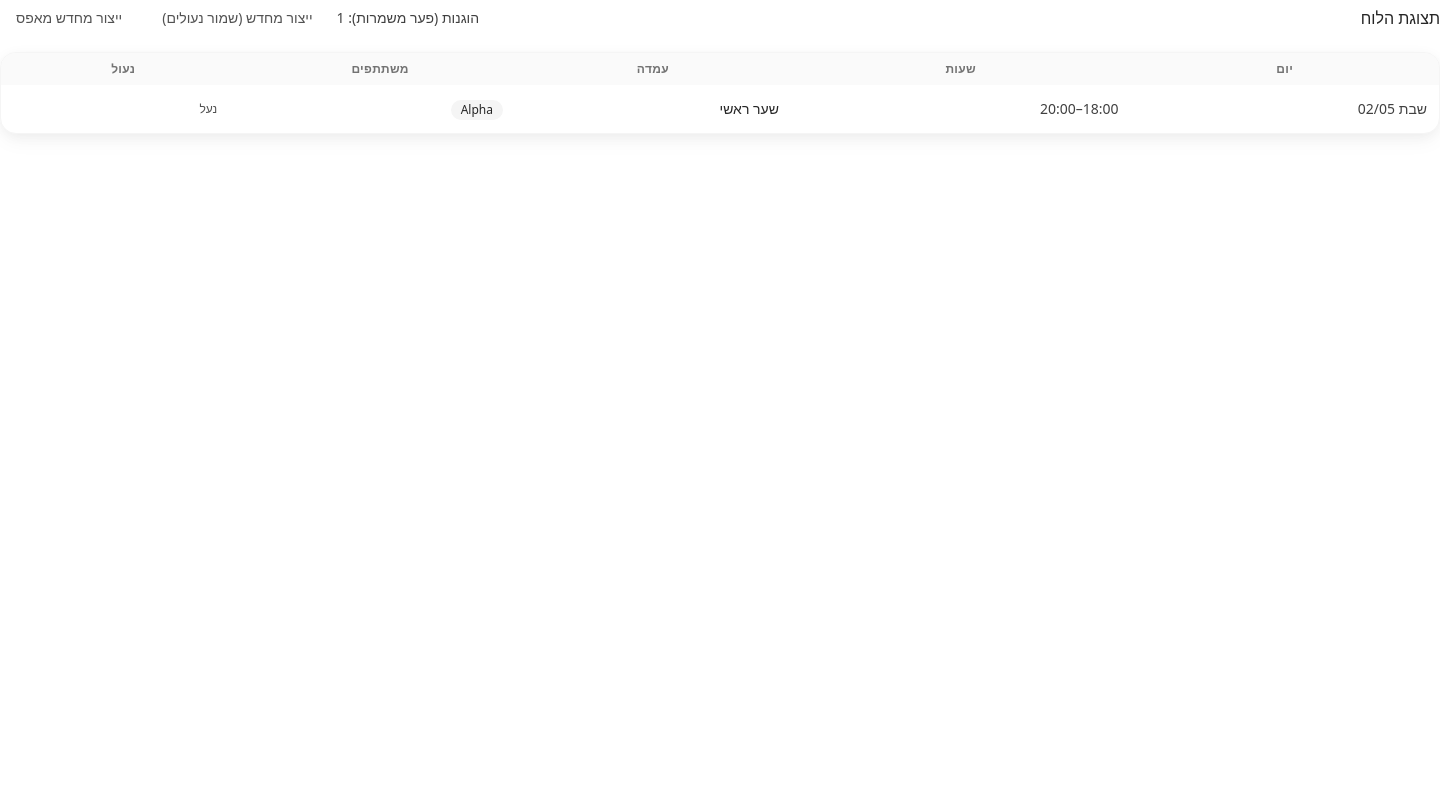
it: GeneratedScheduleTable › opens manual swap dialog when assignee clicked
Click the button "Alpha": (477, 110) [451,100,503,120]
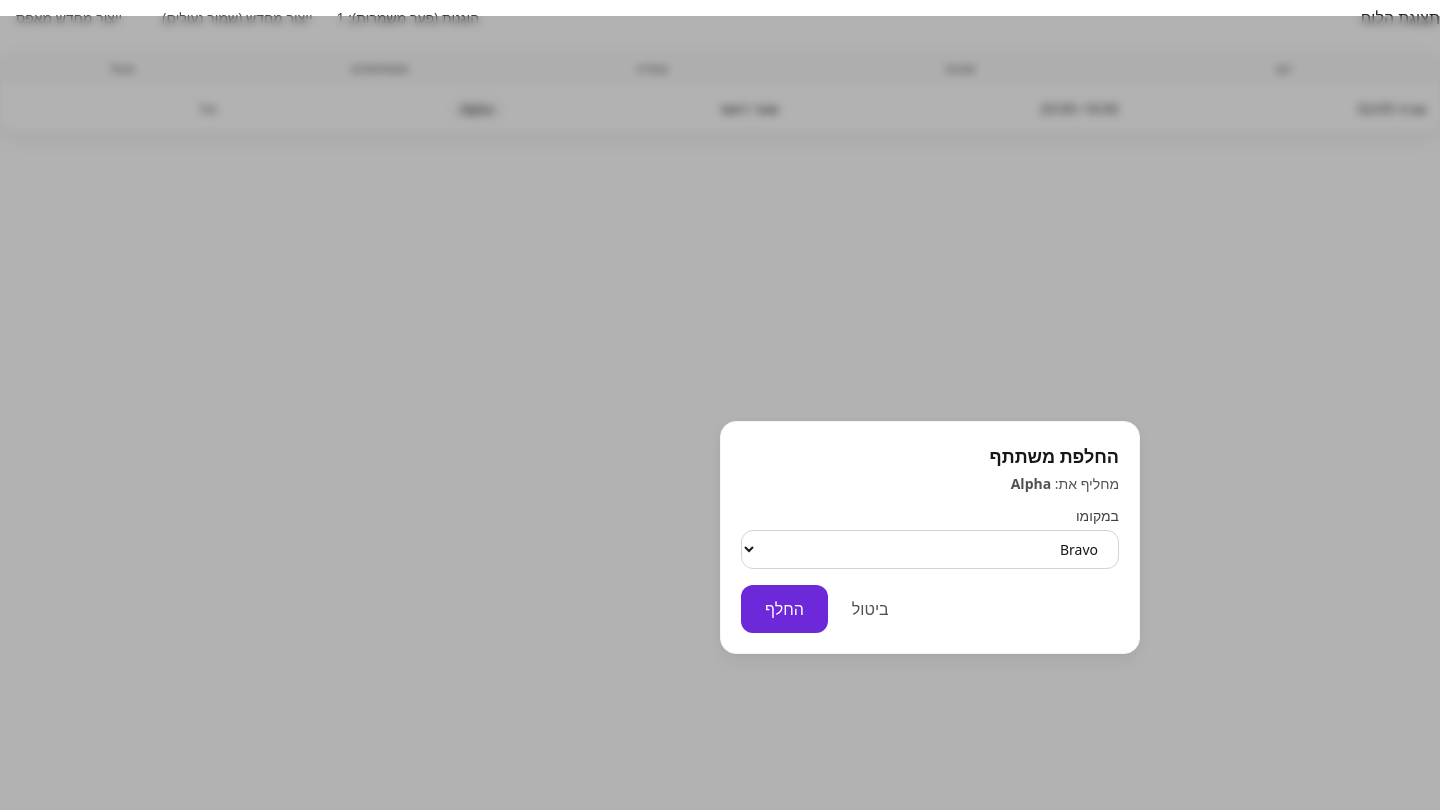
Now the heading "החלפת משתתף" is shown, box [990,444,1119,468]
